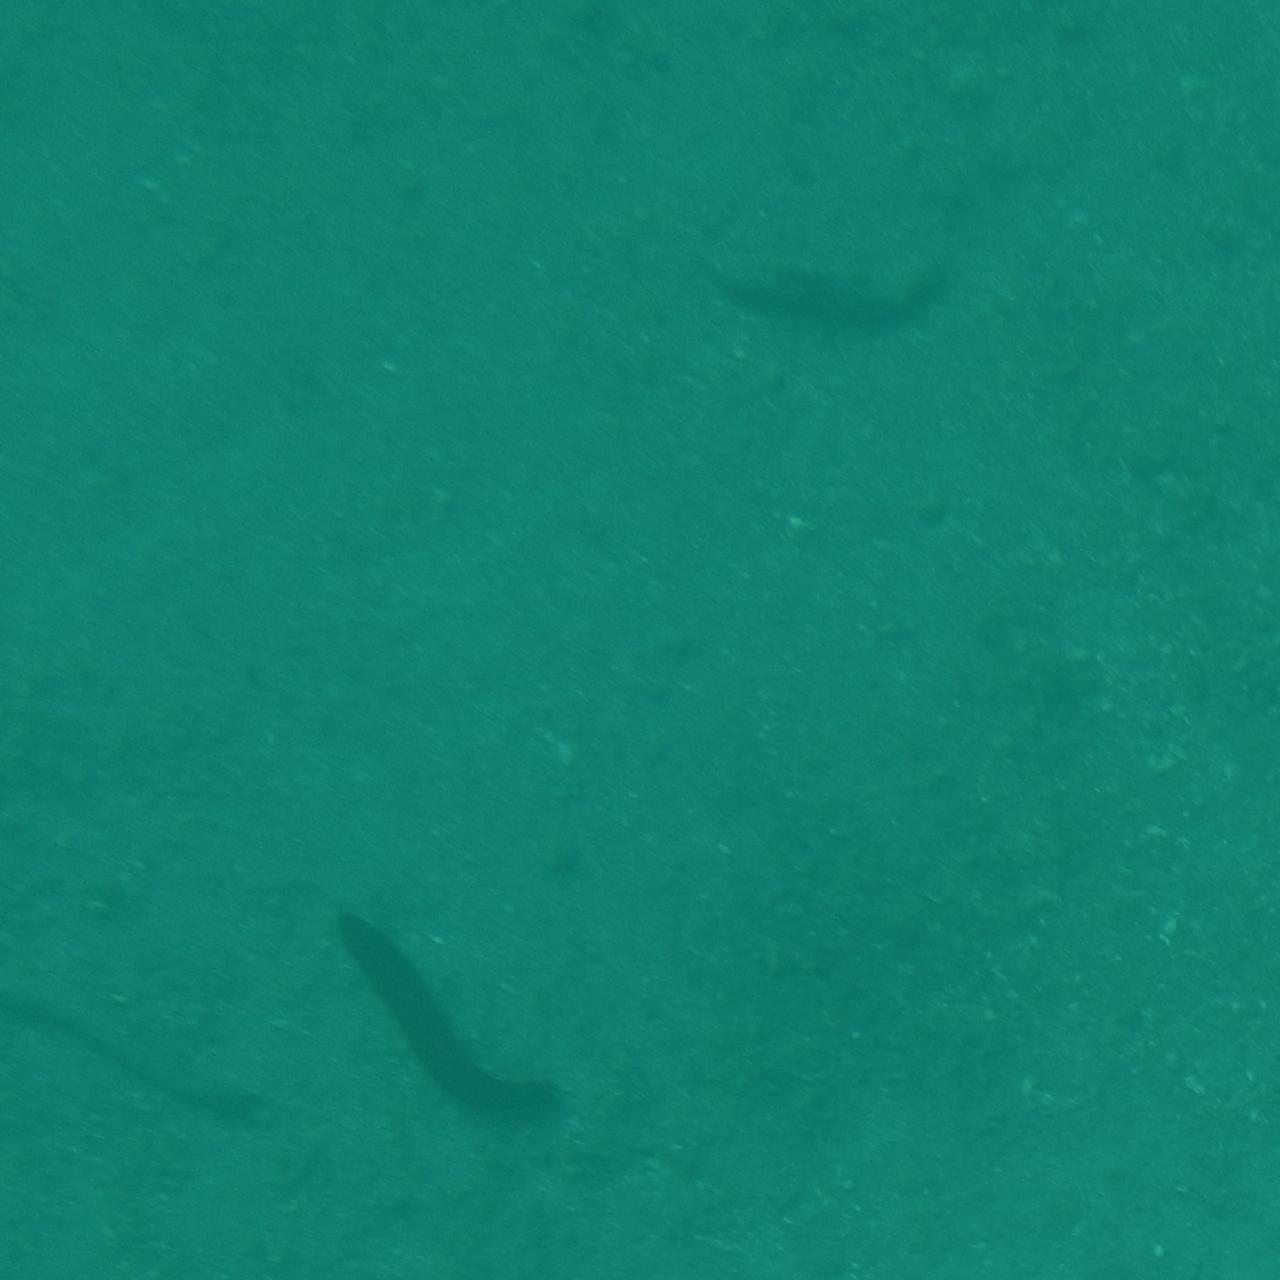Holothuria tubulosa: (332, 896, 577, 1146), (681, 188, 973, 332)
